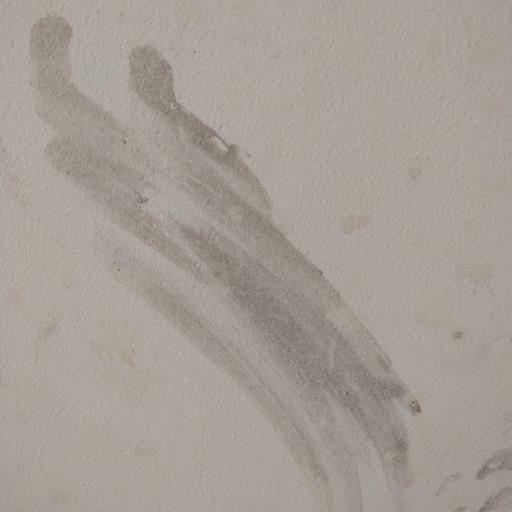stain: (170, 196, 512, 511), (31, 11, 298, 345)
